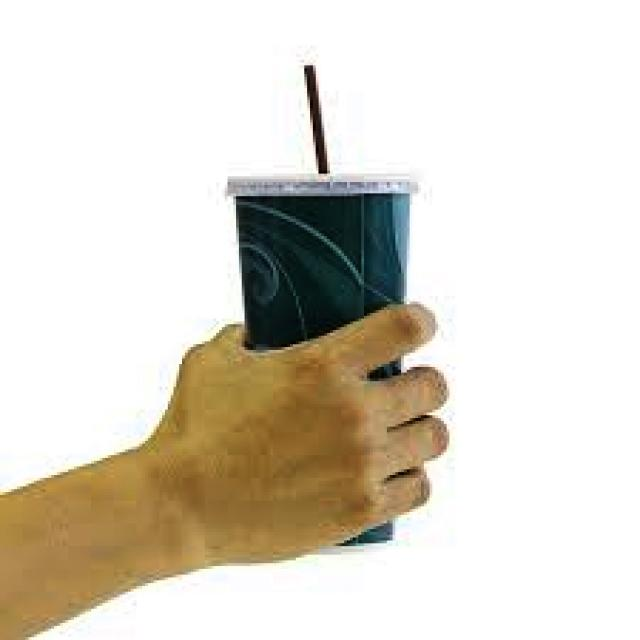bottle: (225, 167, 415, 548)
